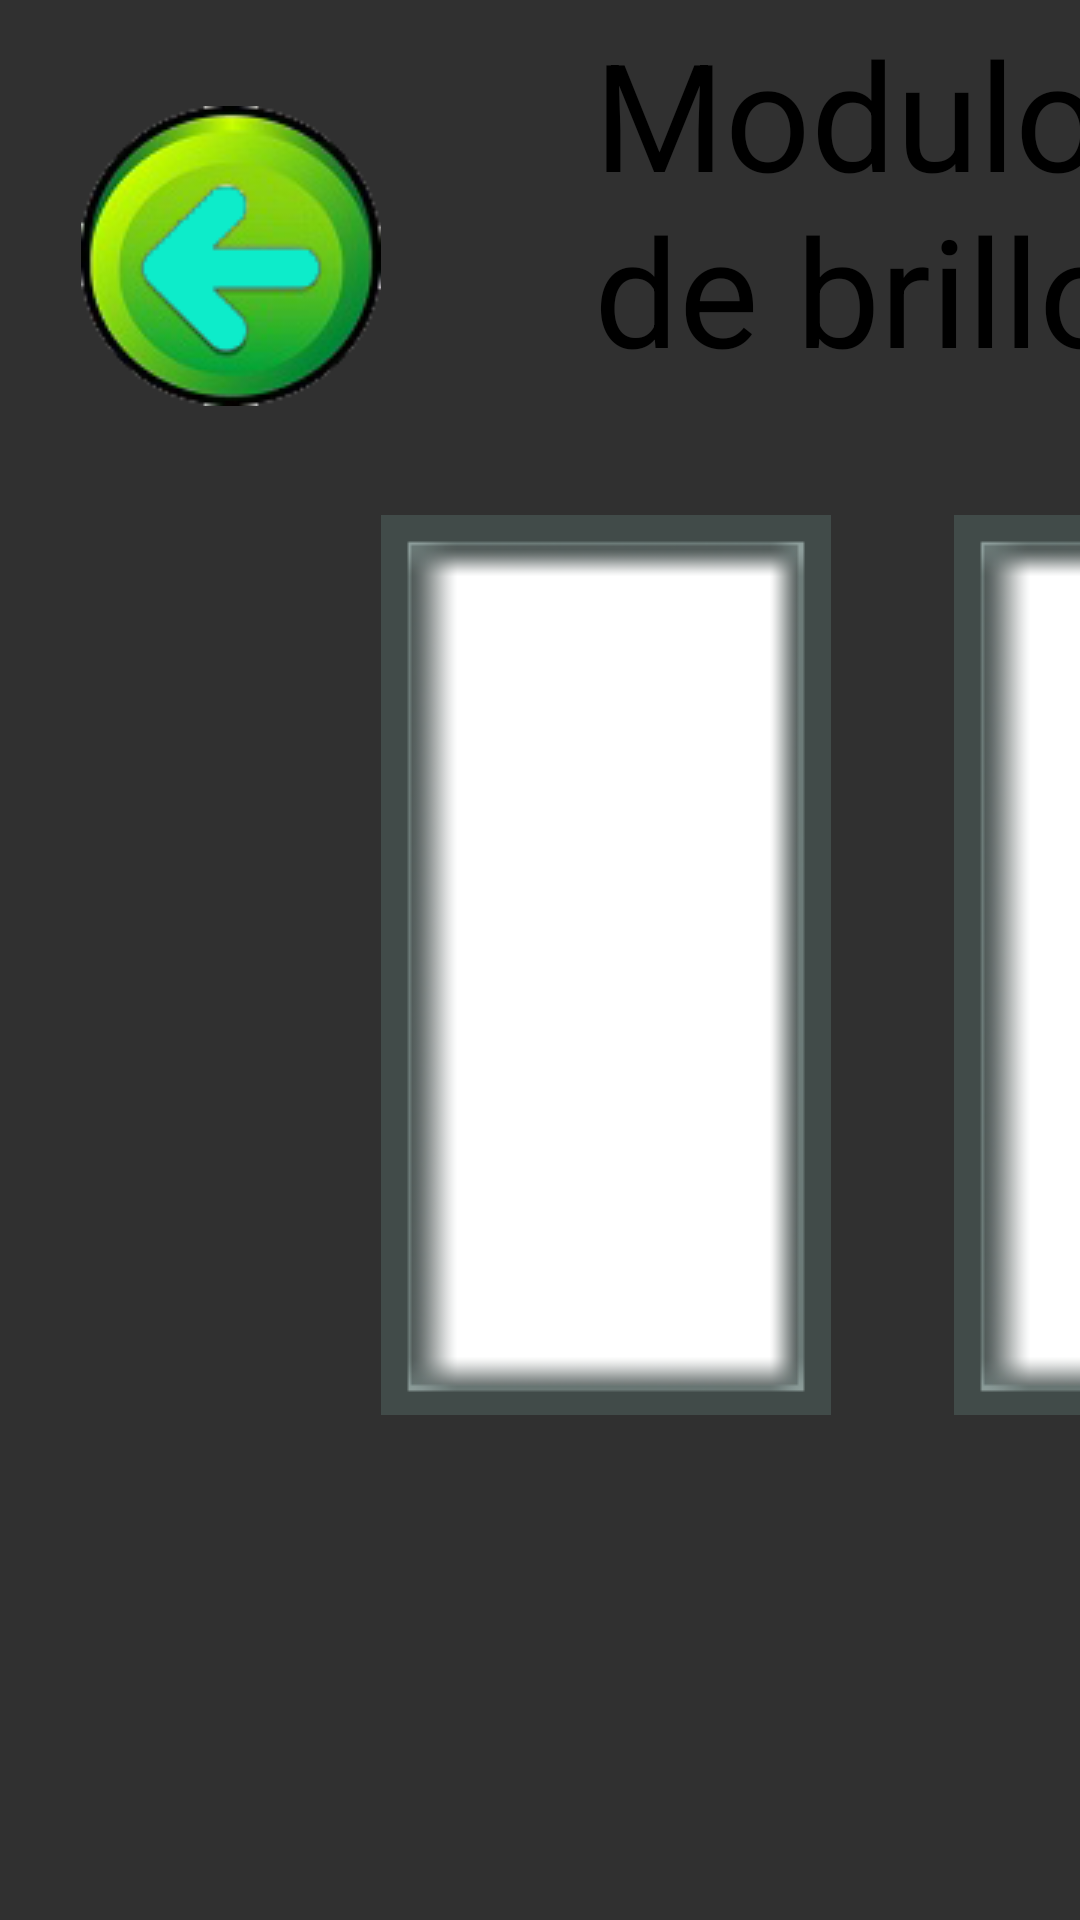

Icon click points for this 1080 x 1920 phone screenshot, format [x,y]:
back: [231,256]
